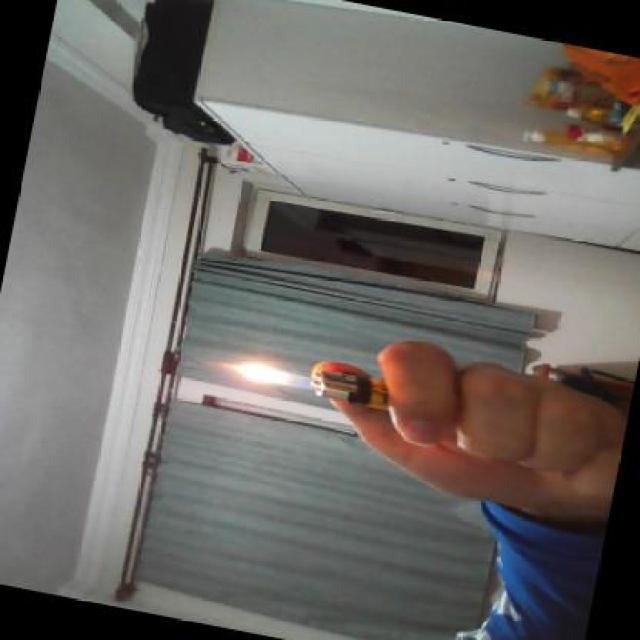Fire: (216, 348, 310, 410)
